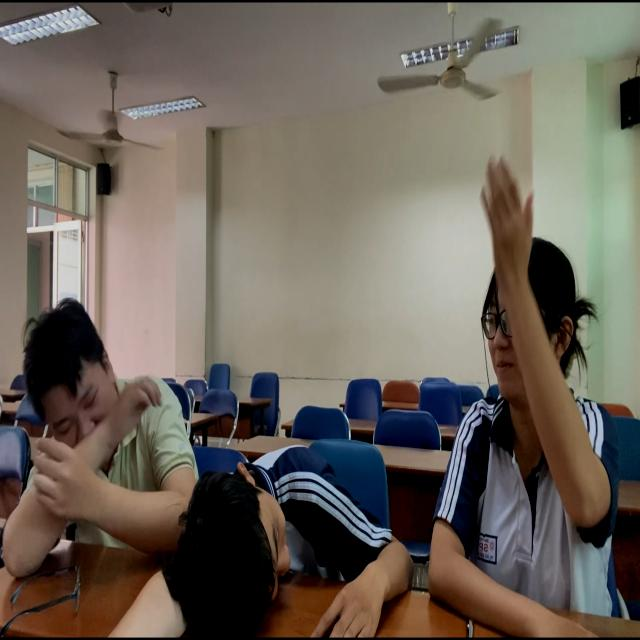raise_hand: (420, 117, 639, 640)
sleep: (156, 426, 405, 635)
